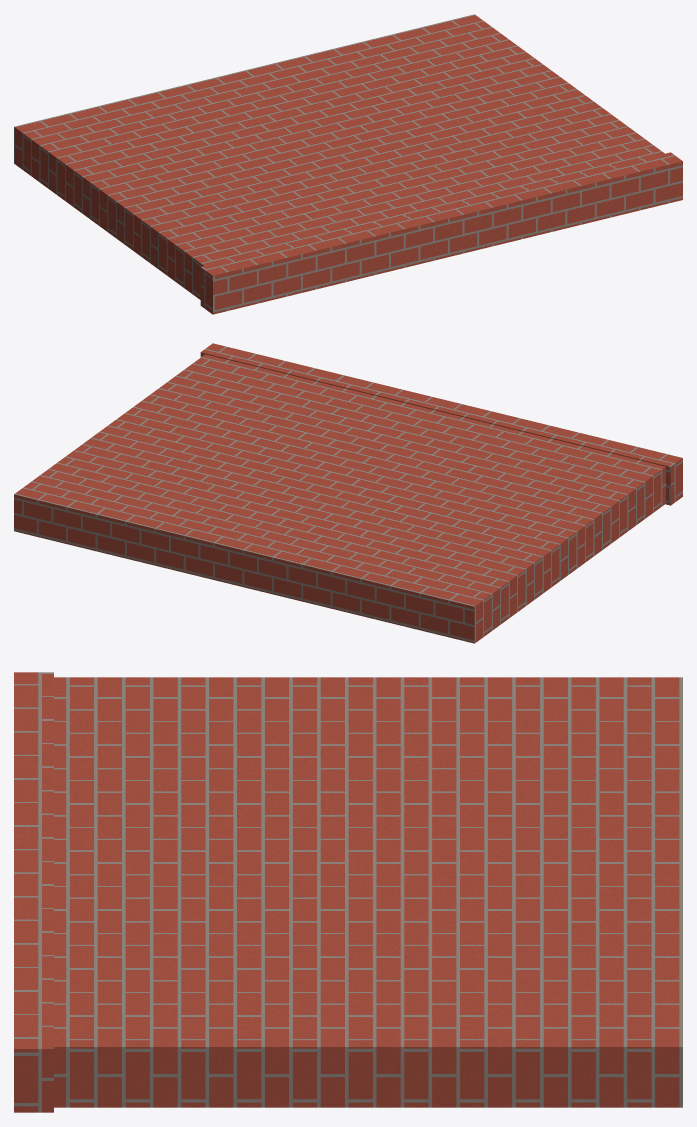
The picture shows the model from 3 angles, top to bottom: view 1: azimuth 30°, elevation 25°; view 2: azimuth 150°, elevation 25°; view 3: azimuth 270°, elevation 25°; orthographic projection. The views are drawn at different scales.
Parts seen in each view (by area): view 1: wall_brick_1u_lod0_run001; view 2: wall_brick_1u_lod0_run001; view 3: wall_brick_1u_lod0_run001.
Part boxes in pixels (x1,y1,x2,y2): wall_brick_1u_lod0_run001: (14,14,682,314); wall_brick_1u_lod0_run001: (14,343,682,643); wall_brick_1u_lod0_run001: (14,672,682,1112).
Bounding box in the file's own units: 4 × 0.315 × 3.
Materials: 1 (1 with a texture image).
